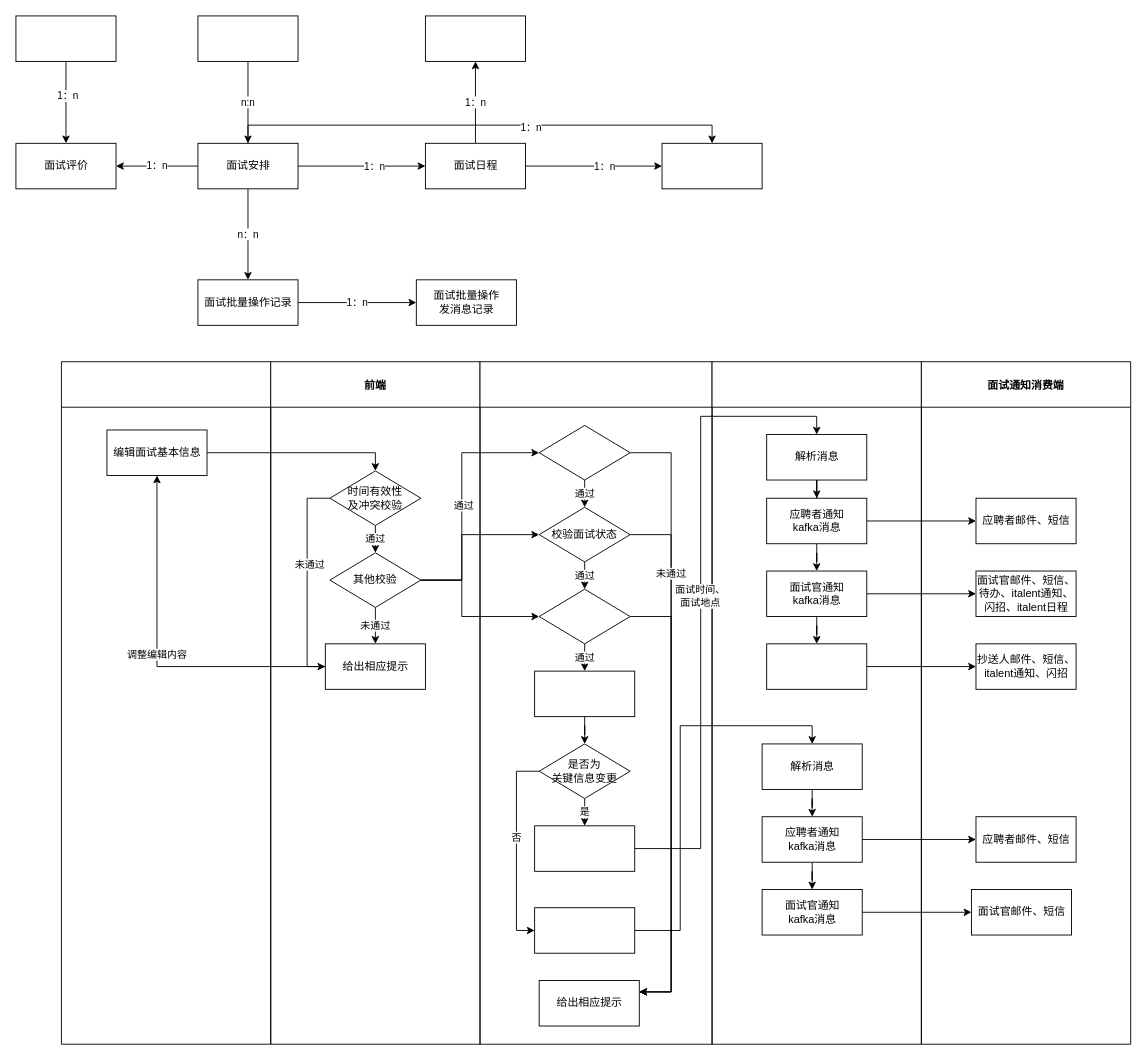
Image size: 1147x1060. Some labels were removed from this diagram. The shapes that lost their labels are listed below. From the top down, each one's box as (x1, y1, x2, y2) in pixels, then its label:
(15, 15, 116, 61): 面试评价表
(197, 15, 298, 61): 申请
(425, 15, 526, 61): 面试官答复
(661, 142, 762, 189): 面试
(538, 425, 630, 480): 校验 面试安排状态
(538, 588, 630, 644): 校验 面试评价状态
(766, 643, 867, 689): 抄送人通知 kafka消息
(61, 361, 271, 1044): HR
(534, 670, 635, 717): 获取变更人员信息
(479, 361, 712, 1044): 面试服务
(711, 361, 921, 1044): 安排面试消费端
(534, 825, 635, 871): 关键信息变更 kafka消息
(534, 907, 635, 953): 非关键信息变更 kafka消息
